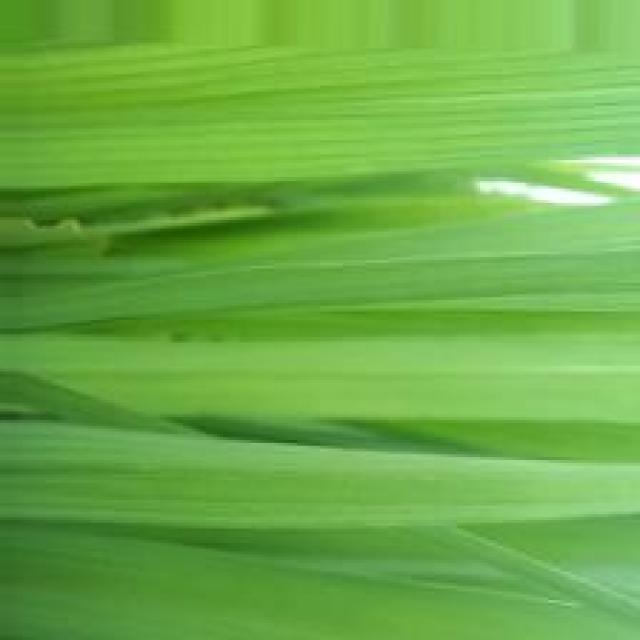HealthyLeaf: (3, 51, 635, 182), (4, 423, 473, 527), (230, 210, 611, 305), (4, 530, 289, 636)
